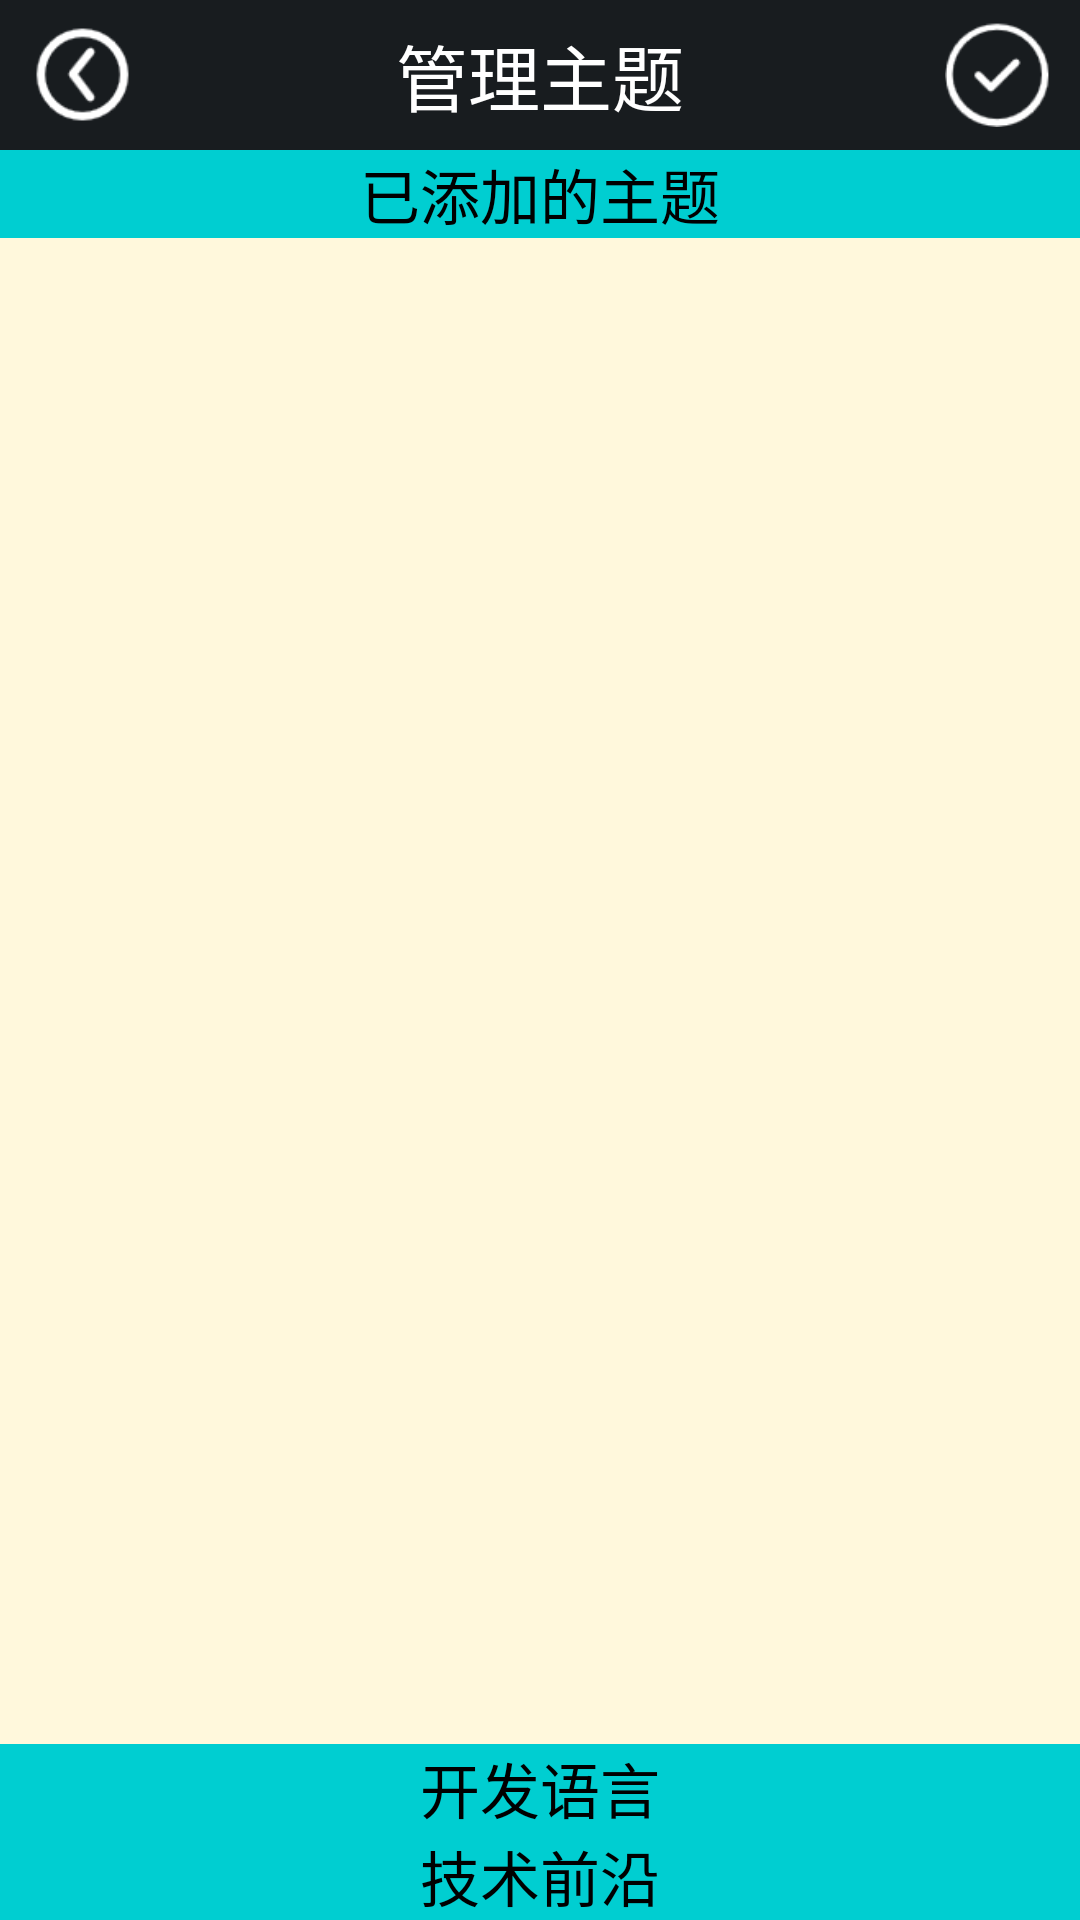

Where to tap for icons on this 1080 × 1920 app screen, as point (x, y):
back: point (82, 74)
save: point (997, 75)
